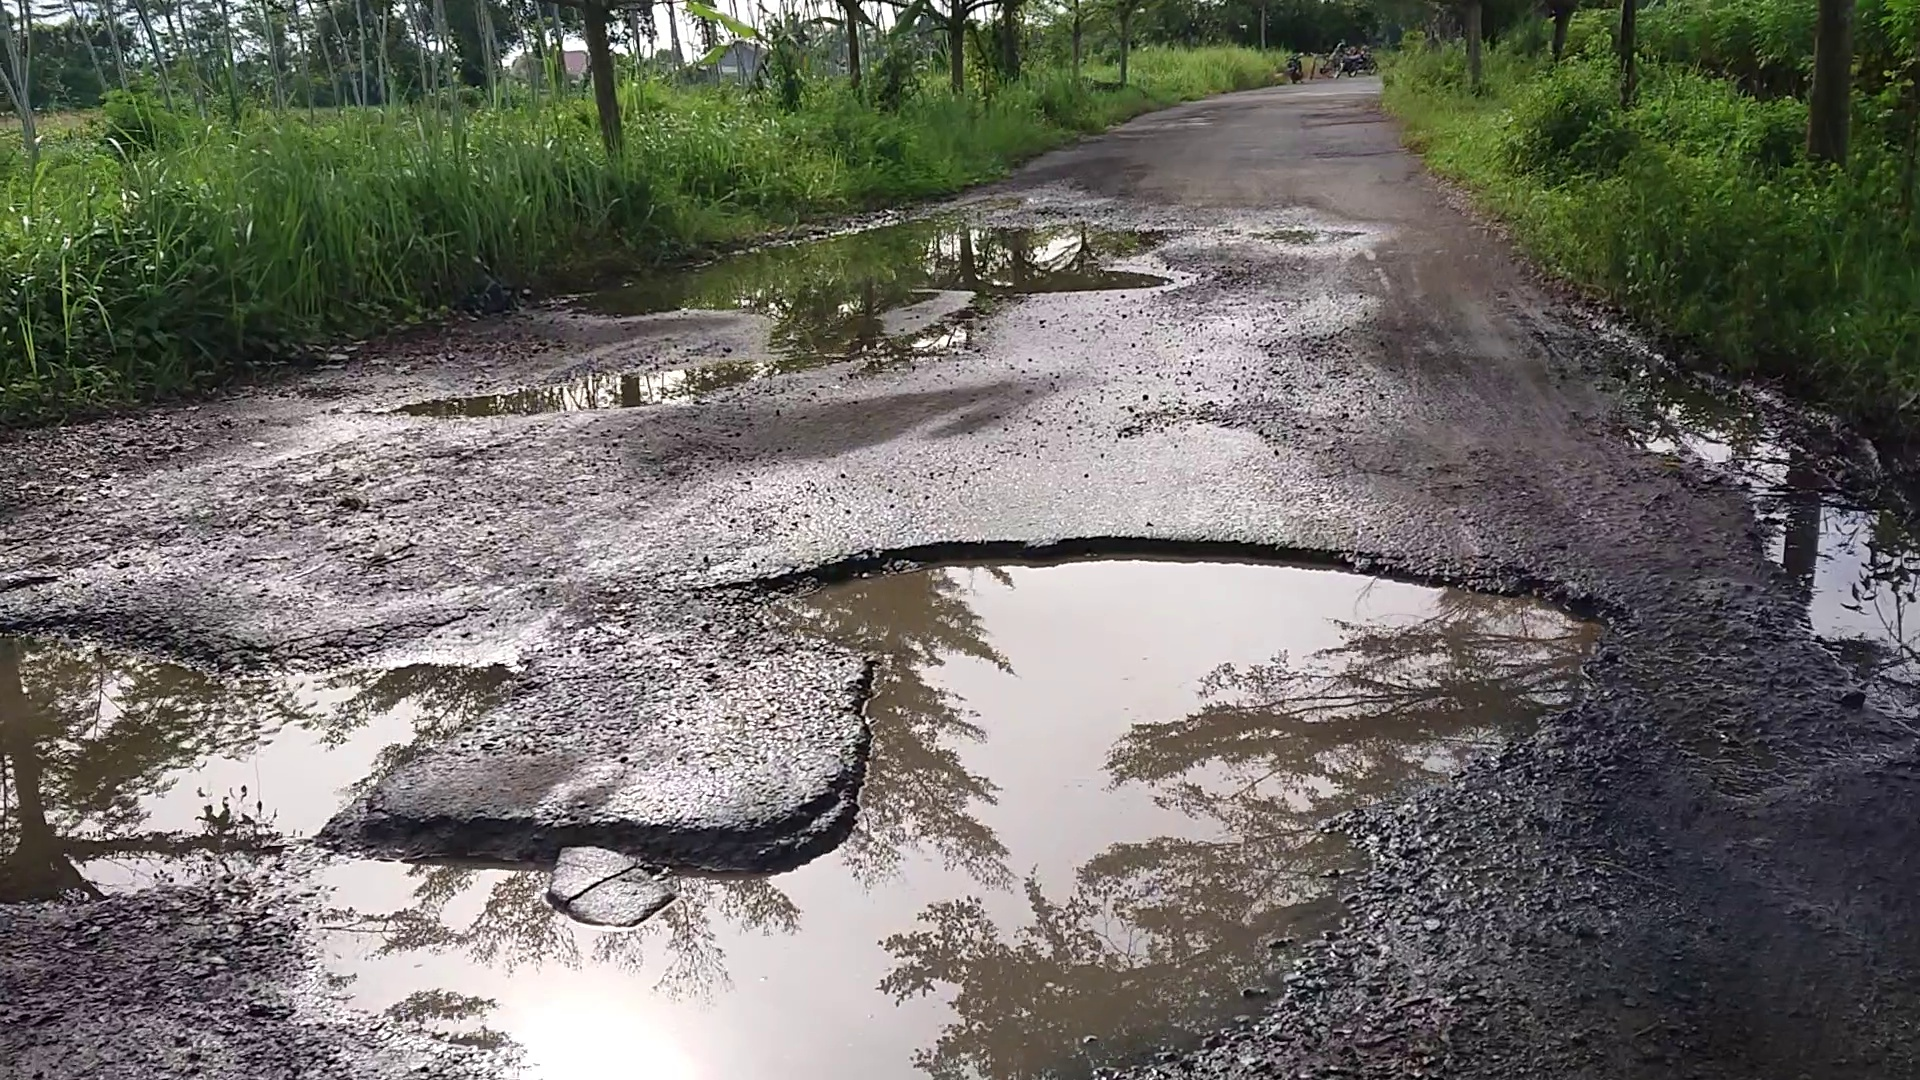Berlubang: (20, 567, 1606, 1080), (481, 207, 1247, 409)
